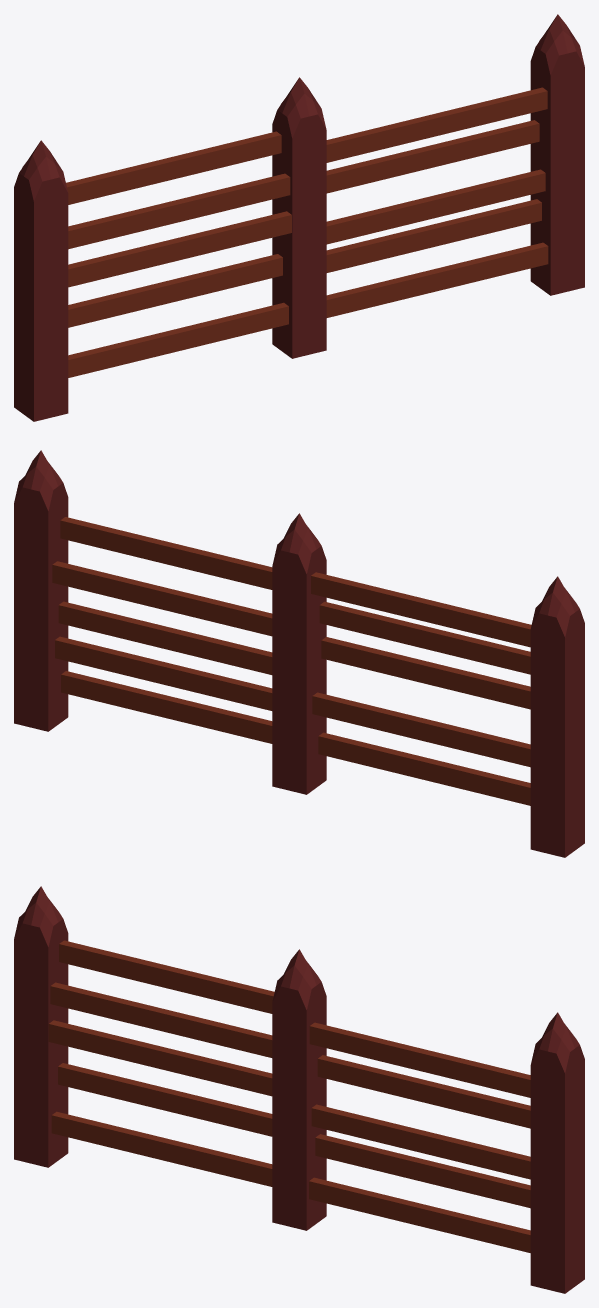
File: Fence.fbx
The picture shows the model from 3 angles, top to bottom: view 1: azimuth 30°, elevation 25°; view 2: azimuth 150°, elevation 25°; view 3: azimuth 330°, elevation 25°; orthographic projection.
Parts seen in each view (by area): view 1: Cube, Cube.001, Cube.002, Cube.005, Cube.004, Cube.008, Cube.011, Cube.007, Cube.012, Cube.009, Cube.006, Cube.003 (+1 smaller); view 2: Cube, Cube.002, Cube.001, Cube.010, Cube.003, Cube.006, Cube.009, Cube.012, Cube.007, Cube.011, Cube.008, Cube.004 (+1 smaller); view 3: Cube.001, Cube.002, Cube, Cube.005, Cube.004, Cube.008, Cube.011, Cube.007, Cube.012, Cube.009, Cube.006, Cube.003 (+1 smaller).
Boxes of the visible parts, x1,y1,x2,y2 form: Cube: (14, 140, 68, 421); Cube.001: (530, 14, 584, 295); Cube.002: (272, 77, 326, 358); Cube.005: (68, 211, 291, 287); Cube.004: (68, 173, 290, 249); Cube.008: (326, 242, 548, 317); Cube.011: (326, 87, 547, 162); Cube.007: (68, 302, 288, 377); Cube.012: (326, 169, 545, 244); Cube.009: (326, 199, 541, 272); Cube.006: (68, 254, 282, 327); Cube.003: (66, 131, 281, 204); Cube: (530, 576, 584, 857); Cube.002: (272, 513, 326, 794); Cube.001: (14, 450, 68, 731); Cube.010: (52, 561, 272, 636); Cube.003: (311, 572, 531, 647); Cube.006: (312, 692, 530, 767); Cube.009: (55, 636, 272, 710); Cube.012: (58, 601, 272, 674); Cube.007: (318, 732, 530, 805); Cube.011: (60, 517, 272, 589); Cube.008: (61, 671, 272, 743); Cube.004: (319, 601, 530, 674); Cube.001: (530, 1012, 584, 1293); Cube.002: (272, 949, 326, 1230); Cube: (14, 886, 68, 1167); Cube.005: (48, 1020, 272, 1096); Cube.004: (50, 982, 272, 1057); Cube.008: (309, 1177, 530, 1252); Cube.011: (309, 1022, 530, 1097); Cube.007: (51, 1111, 272, 1186); Cube.012: (311, 1104, 530, 1179); Cube.009: (315, 1134, 530, 1208); Cube.006: (58, 1063, 272, 1136); Cube.003: (59, 940, 274, 1013).
Size of the model in its own units: 3.2 by 1.5 by 0.2.
